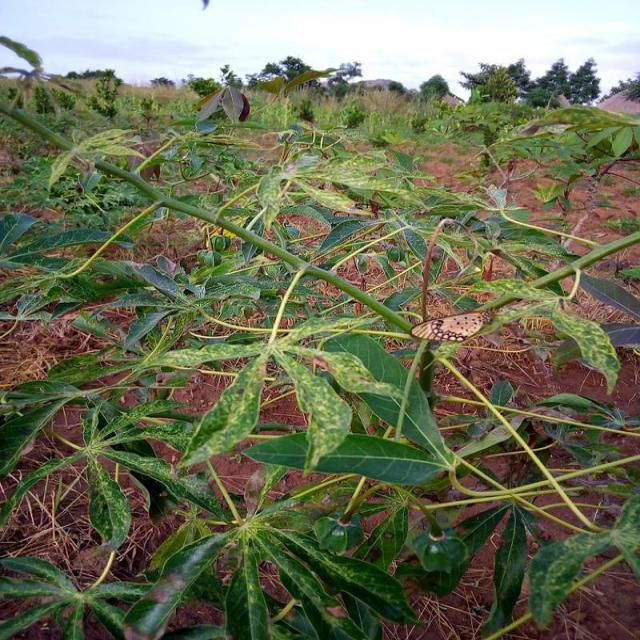cassava leaf: (241, 429, 446, 485), (177, 349, 269, 470)
